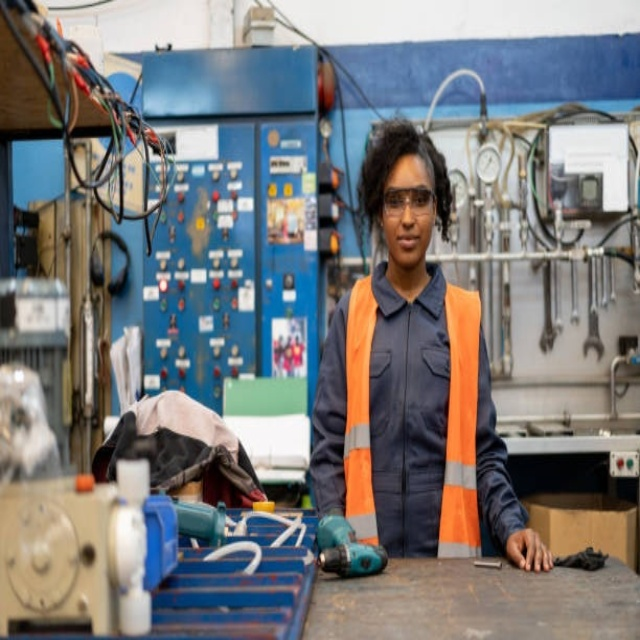Gafas: (382, 187, 437, 217)
Sin_guantes: (506, 527, 553, 572)
Sin_mascara: (392, 226, 424, 267)
